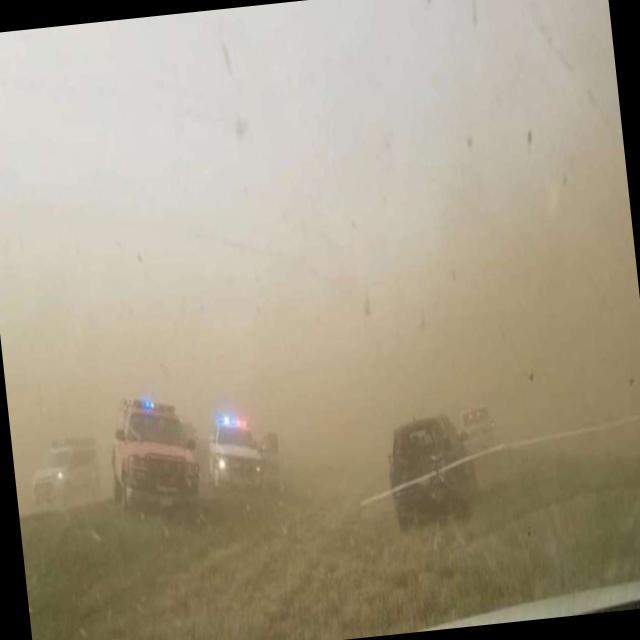bus: (105, 392, 204, 522)
car: (384, 409, 476, 528), (205, 407, 284, 502), (30, 436, 106, 508), (457, 400, 500, 464)
